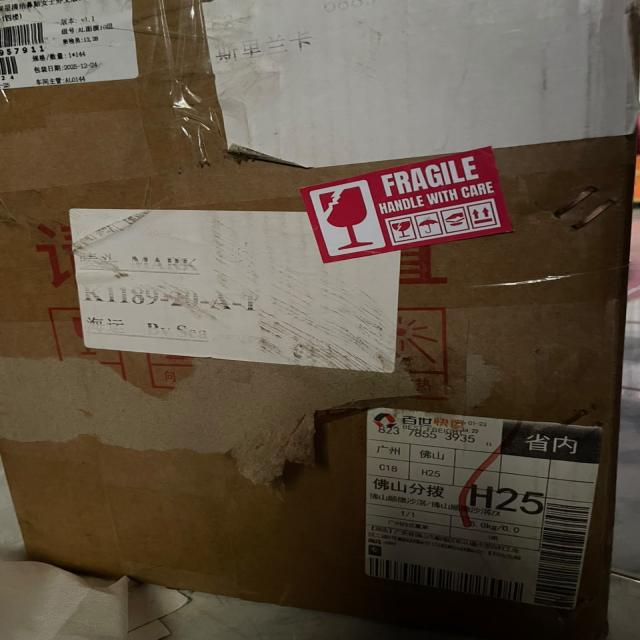carton_box: (1, 0, 640, 640)
export_mark_label: (363, 406, 628, 640)
fragile_label: (295, 153, 520, 263)
